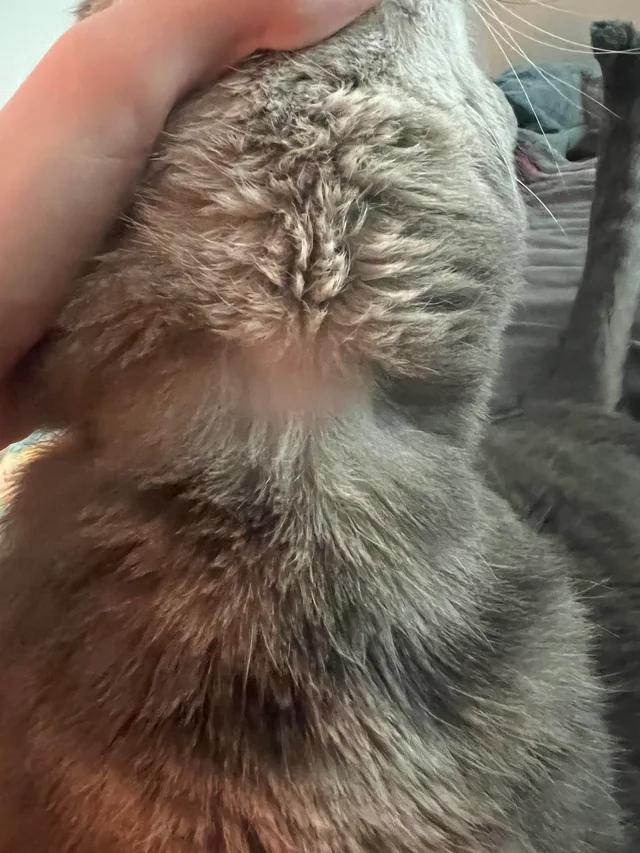hairloss: (127, 332, 400, 426)
